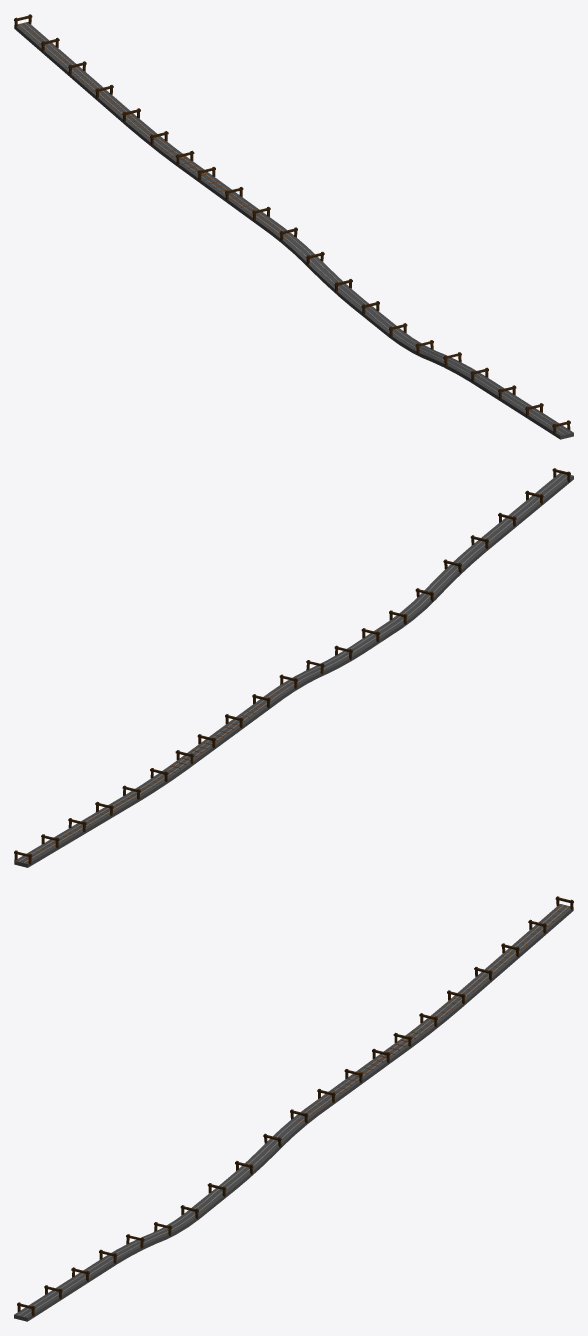
Rendered from MineLVL (1).fbx.
3 renders of one model, top to bottom at view 1: azimuth 30°, elevation 25°; view 2: azimuth 150°, elevation 25°; view 3: azimuth 330°, elevation 25°, orthographic.
Parts seen in each view (by area): view 1: StoneGround.001, Cube.057, StoneGround.005, StoneGround.021, Cube, StoneGround.013; view 2: StoneGround.001, Cube.057, StoneGround.021, StoneGround.005, Cube, StoneGround.013; view 3: StoneGround.001, Cube.057, StoneGround.005, StoneGround.021, Cube, StoneGround.013.
Part boxes in pixels (bbox=[...]): StoneGround.001: bbox=[14, 22, 140, 126]; Cube.057: bbox=[19, 23, 569, 434]; StoneGround.005: bbox=[174, 158, 283, 233]; StoneGround.021: bbox=[470, 375, 573, 439]; Cube: bbox=[18, 23, 570, 427]; StoneGround.013: bbox=[351, 300, 401, 336]; StoneGround.001: bbox=[14, 794, 140, 867]; Cube.057: bbox=[19, 474, 567, 862]; StoneGround.021: bbox=[470, 473, 573, 553]; StoneGround.005: bbox=[175, 692, 283, 768]; Cube: bbox=[18, 469, 570, 862]; StoneGround.013: bbox=[351, 621, 401, 652]; StoneGround.001: bbox=[447, 904, 573, 1008]; Cube.057: bbox=[18, 905, 568, 1316]; StoneGround.005: bbox=[304, 1040, 413, 1115]; StoneGround.021: bbox=[14, 1257, 117, 1321]; Cube: bbox=[17, 905, 569, 1309]; StoneGround.013: bbox=[186, 1182, 236, 1218].
Bounding box in the file's own units: 1833 × 4720 × 100000.
